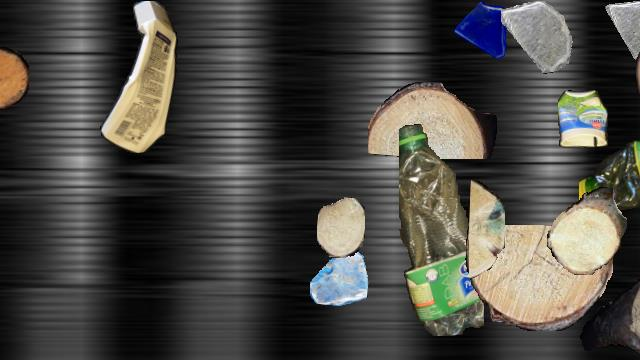glass: (501, 1, 573, 73), (453, 1, 517, 65), (310, 247, 368, 305), (605, 1, 640, 59)
metal: (0, 197, 7, 241)
plastic: (399, 123, 483, 335), (94, 1, 182, 153), (579, 126, 640, 218), (558, 90, 608, 148)
wood: (465, 225, 613, 331), (368, 82, 496, 158), (547, 187, 627, 275), (579, 279, 640, 359), (469, 180, 505, 278), (317, 197, 365, 257), (0, 47, 29, 109), (636, 25, 640, 123)
